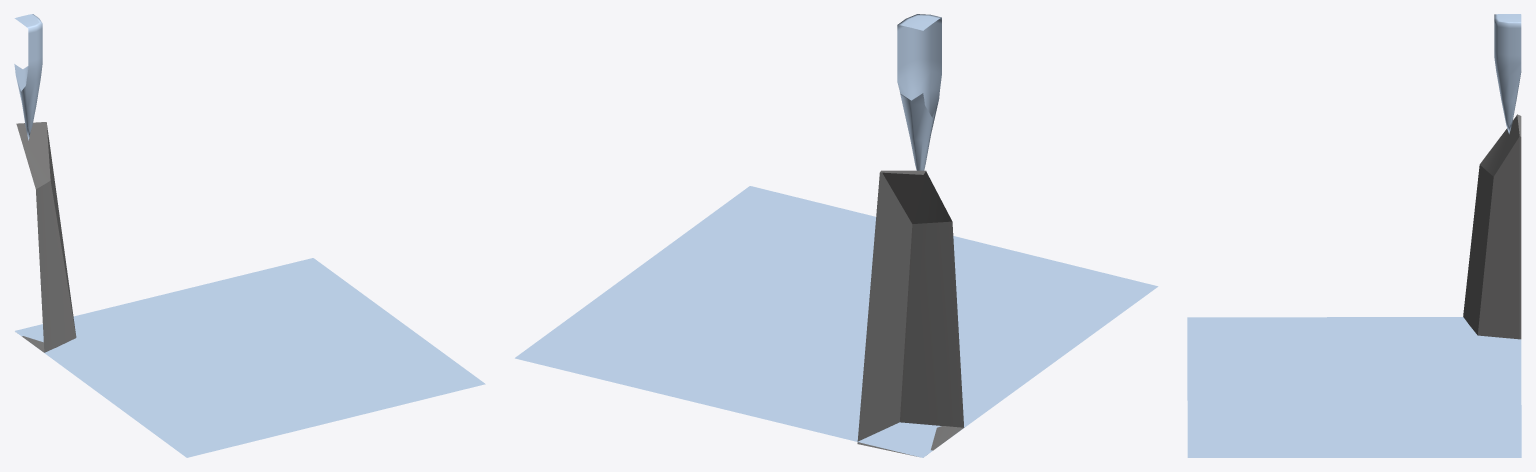
3 views of the same model, side by side, from view 1: azimuth 30°, elevation 25°; view 2: azimuth 150°, elevation 25°; view 3: azimuth 270°, elevation 25° (orthographic). The views are drawn at different scales.
Visible parts, largest first — view 1: C_out_corner; view 2: C_out_corner; view 3: C_out_corner.
Part boxes in pixels (left/top/right/bottom): C_out_corner: left=14, top=14, right=485, bottom=457; C_out_corner: left=515, top=14, right=1158, bottom=457; C_out_corner: left=1187, top=14, right=1521, bottom=457.
Size of the model in its own units: 1 by 1.01 by 1.
